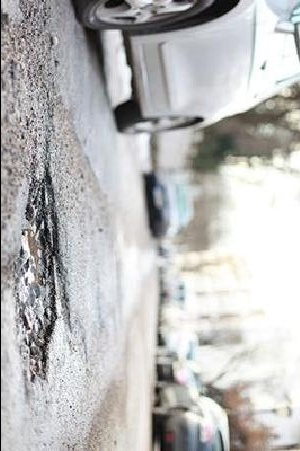pothole: (11, 170, 74, 384)
